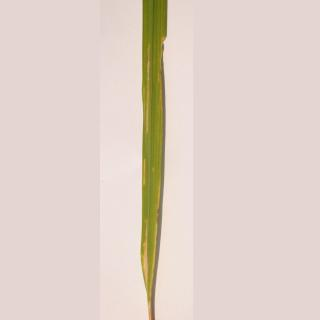Hawar-Daun: (130, 36, 177, 313)
